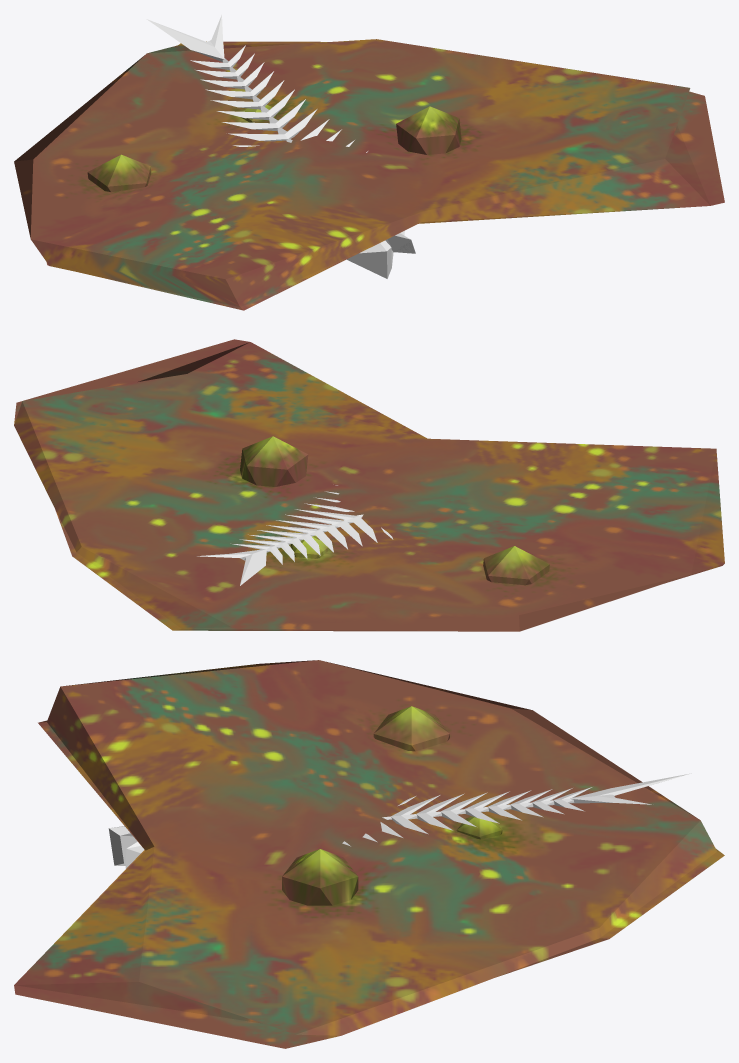
The model's file is Dirt.fbx.
The picture shows the model from 3 angles, top to bottom: view 1: azimuth 30°, elevation 25°; view 2: azimuth 150°, elevation 25°; view 3: azimuth 270°, elevation 25°; orthographic projection. The views are drawn at different scales.
Visible parts, largest first — view 1: Dirt; view 2: Dirt; view 3: Dirt.
Boxes of the visible parts, <box> form: Dirt: <box>14,15,724,310</box>; Dirt: <box>14,339,724,631</box>; Dirt: <box>14,660,724,1048</box>.
Size of the model in its own units: 62.85 by 7.61 by 49.15.
Materials: 2 (2 with a texture image).
